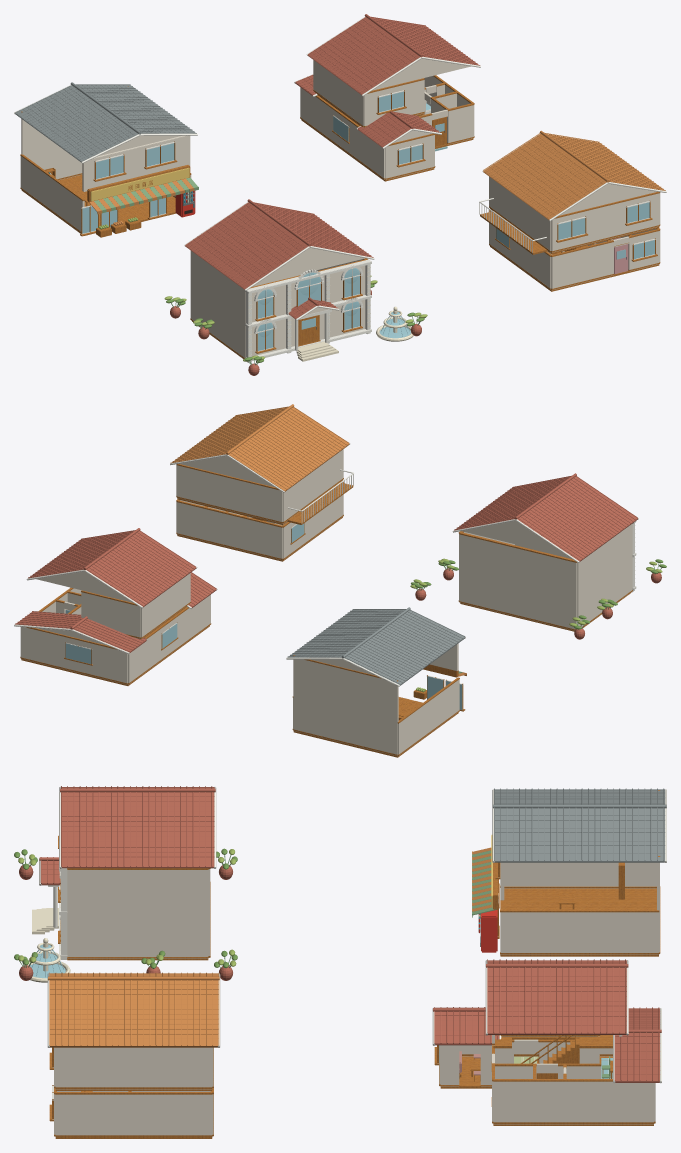
Rendered from neighborhood-v12.glb.
The picture shows the model from 3 angles, top to bottom: view 1: azimuth 30°, elevation 25°; view 2: azimuth 150°, elevation 25°; view 3: azimuth 270°, elevation 25°; orthographic projection. The views are drawn at different scales.
Parts seen in each view (by area): view 1: v11_suneo, v11_gian, v11_home_roof, v11_shizuka_roof, v11_home_lower, v11_shizuka_upper_front, v11_shizuka_front, v11_shizuka_upper, v11_home_front, v11_home_upper_front, v11_shizuka_lower, v11_home_upper (+2 smaller); view 2: v11_suneo, v11_gian, v11_home_roof, v11_shizuka_roof, v11_home_lower, v11_shizuka_upper, v11_shizuka_lower, v11_home_upper, v11_shizuka_balcony, v11_home_front; view 3: v11_suneo, v11_gian, v11_home_roof, v11_home_lower, v11_shizuka_roof, v11_shizuka_lower, v11_shizuka_upper, v11_home_upper, v11_home_stairs.
Boxes of the visible parts, x1=… form: v11_suneo: x1=164, y1=199, x2=427, y2=375; v11_gian: x1=14, y1=82, x2=198, y2=237; v11_home_roof: x1=294, y1=14, x2=480, y2=148; v11_shizuka_roof: x1=482, y1=130, x2=666, y2=221; v11_home_lower: x1=300, y1=75, x2=474, y2=181; v11_shizuka_upper_front: x1=551, y1=191, x2=659, y2=252; v11_shizuka_front: x1=495, y1=228, x2=659, y2=290; v11_shizuka_upper: x1=489, y1=176, x2=660, y2=253; v11_home_front: x1=332, y1=103, x2=474, y2=167; v11_home_upper_front: x1=364, y1=78, x2=424, y2=127; v11_shizuka_lower: x1=489, y1=210, x2=660, y2=291; v11_home_upper: x1=313, y1=60, x2=424, y2=127; v11_suneo: x1=410, y1=473, x2=666, y2=639; v11_gian: x1=286, y1=607, x2=466, y2=757; v11_home_roof: x1=14, y1=528, x2=217, y2=654; v11_shizuka_roof: x1=170, y1=404, x2=350, y2=492; v11_home_lower: x1=20, y1=587, x2=211, y2=685; v11_shizuka_upper: x1=176, y1=449, x2=343, y2=524; v11_shizuka_lower: x1=176, y1=482, x2=343, y2=561; v11_home_upper: x1=81, y1=573, x2=190, y2=639; v11_shizuka_balcony: x1=287, y1=469, x2=354, y2=524; v11_home_front: x1=64, y1=622, x2=178, y2=665; v11_suneo: x1=14, y1=786, x2=237, y2=982; v11_gian: x1=472, y1=788, x2=666, y2=956; v11_home_roof: x1=432, y1=959, x2=661, y2=1083; v11_home_lower: x1=439, y1=1039, x2=655, y2=1125; v11_shizuka_roof: x1=47, y1=972, x2=220, y2=1047; v11_shizuka_lower: x1=55, y1=1088, x2=213, y2=1138; v11_shizuka_upper: x1=55, y1=1047, x2=213, y2=1090; v11_home_upper: x1=493, y1=1035, x2=622, y2=1048; v11_home_stairs: x1=521, y1=1035, x2=579, y2=1078.
Bounding box in the file's own units: 32.41 × 7.58 × 33.32.
Materials: 25 (3 with a texture image).
